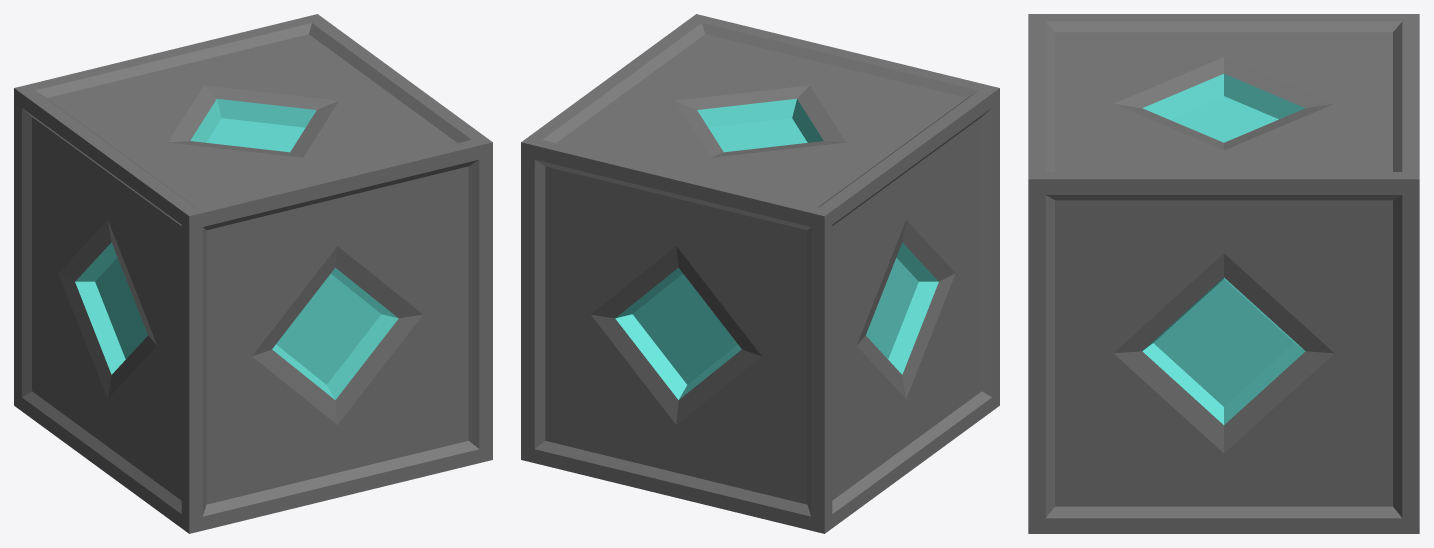
Rendered from Player 1.fbx.
The picture shows the model from 3 angles, left to right: view 1: azimuth 30°, elevation 25°; view 2: azimuth 150°, elevation 25°; view 3: azimuth 270°, elevation 25°; orthographic projection. The views are drawn at different scales.
Visible parts, largest first — view 1: Player; view 2: Player; view 3: Player.
Part boxes in pixels (x1=…): Player: x1=14, y1=14, x2=492, y2=533; Player: x1=521, y1=14, x2=999, y2=533; Player: x1=1028, y1=14, x2=1419, y2=533.
Size of the model in its own units: 104 by 104 by 104.
